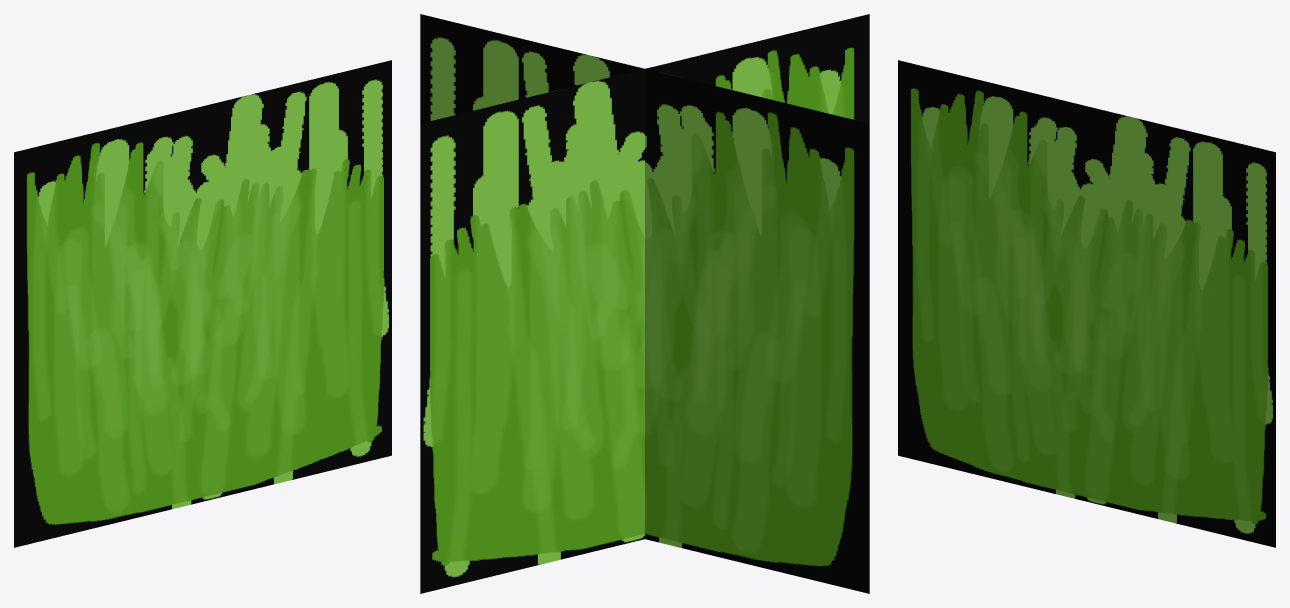
The model's file is grassBush.gltf.
3 renders of one model, left to right at view 1: azimuth 30°, elevation 25°; view 2: azimuth 150°, elevation 25°; view 3: azimuth 270°, elevation 25°, orthographic. The views are drawn at different scales.
Parts seen in each view (by area): view 1: grass; view 2: grass; view 3: grass.
Boxes of the visible parts, bbox=[...] form: grass: bbox=[14, 60, 391, 547]; grass: bbox=[420, 14, 869, 593]; grass: bbox=[898, 60, 1275, 547].
Size of the model in its own units: 2 by 2 by 1.73.
Materials: 1 (1 with a texture image).
